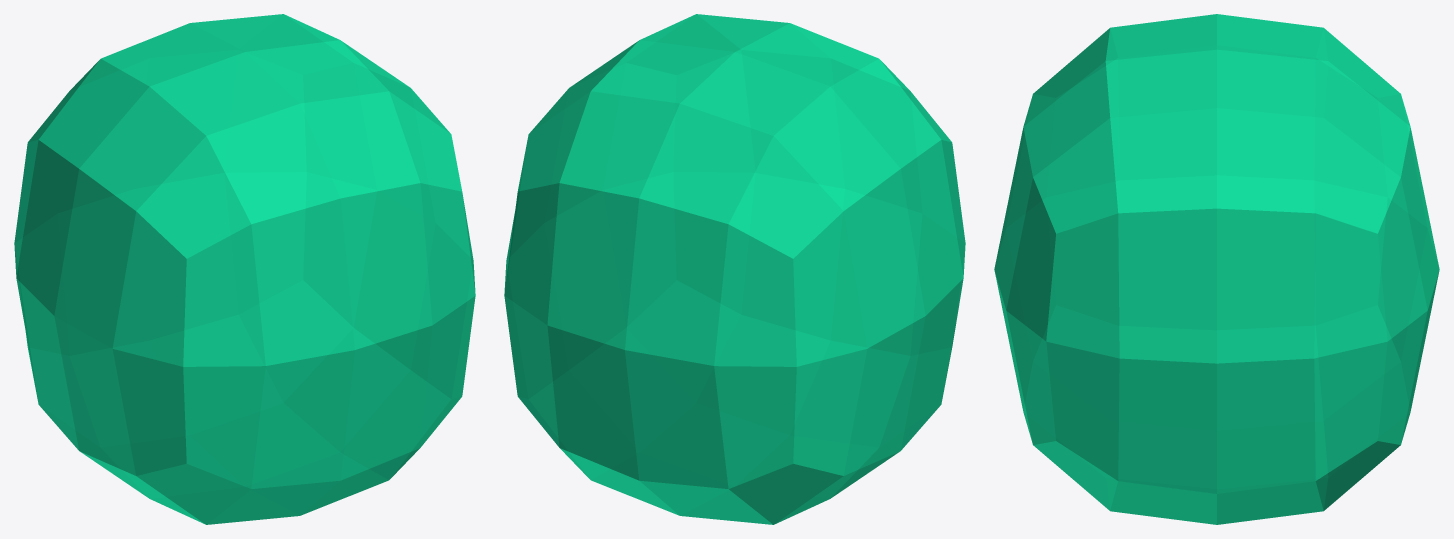
File: EXP_Ball.fbx
The picture shows the model from 3 angles, left to right: view 1: azimuth 30°, elevation 25°; view 2: azimuth 150°, elevation 25°; view 3: azimuth 270°, elevation 25°; orthographic projection.
Parts seen in each view (by area): view 1: Cube; view 2: Cube; view 3: Cube.
Part boxes in pixels (x1,y1,x2,y2): Cube: (14,14,475,524); Cube: (504,14,965,524); Cube: (994,14,1439,524).
Size of the model in its own units: 8.99 by 8.99 by 9.79.
